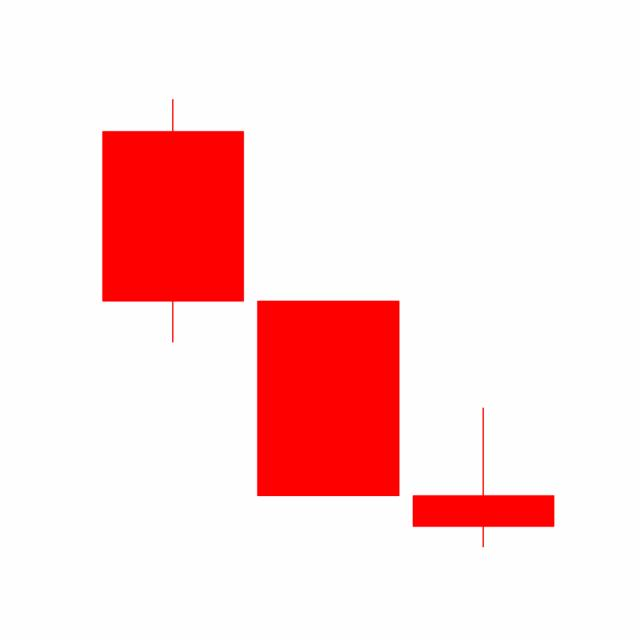Gravestone Doji: (405, 406, 561, 549)
